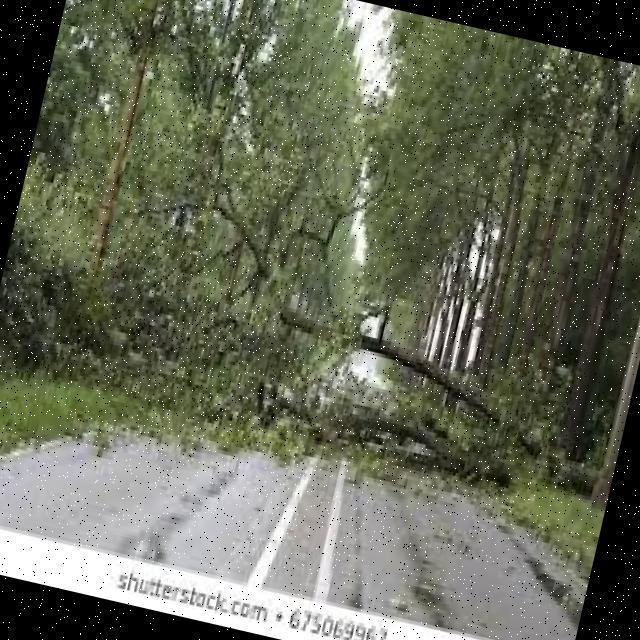fallen_object: (104, 234, 588, 521)
